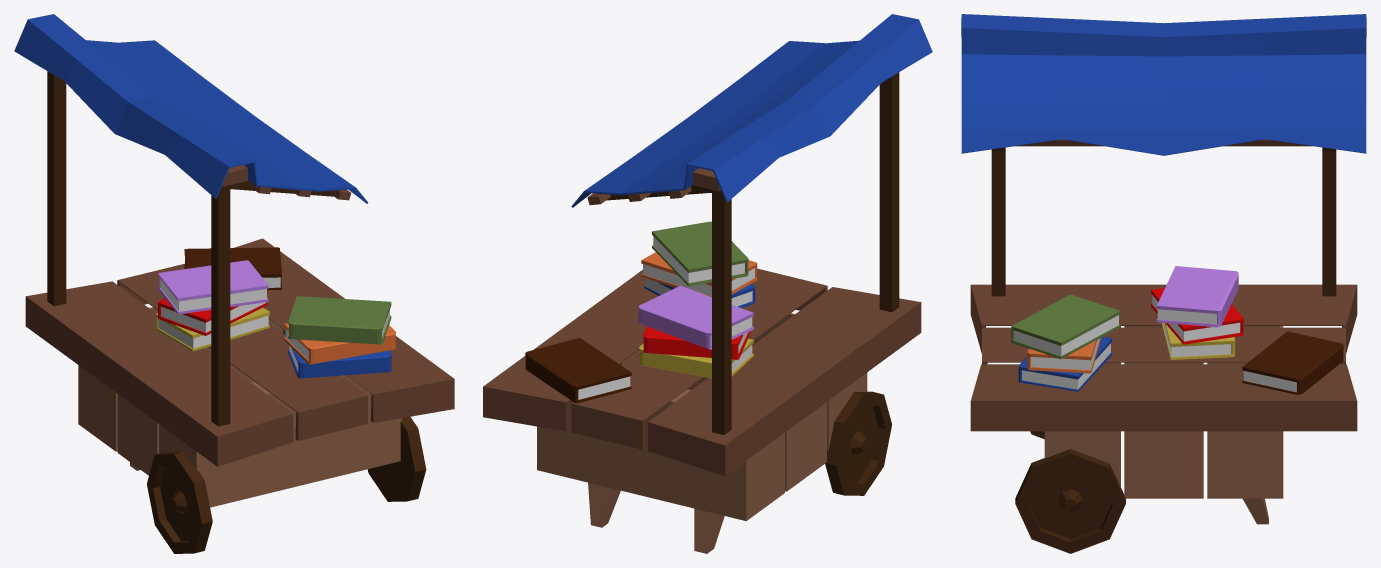
File: puestoLibros4.fbx
3 views of the same model, side by side, from view 1: azimuth 30°, elevation 25°; view 2: azimuth 150°, elevation 25°; view 3: azimuth 270°, elevation 25° (orthographic). The views are drawn at different scales.
Visible parts, largest first — view 1: Cube.9099, Plane.1801, Cube.9098, Cube.9100, Circle.231, Cube.9110, Cube.9116, Cube.9106, Cube.9118, Cube.9108, Cube.9113, Cube.9117 (+3 smaller); view 2: Cube.9099, Plane.1801, Cube.9098, Cube.9100, Circle.231, Cube.9118, Cube.9116, Cube.9110, Cube.9114, Cube.9112, Cube.9109, Cube.9111 (+2 smaller); view 3: Plane.1801, Cube.9099, Cube.9098, Circle.231, Cube.9100, Cube.9118, Cube.9116, Cube.9110, Cube.9111, Cube.9114, Cube.9107, Cube.9106 (+8 smaller).
Part boxes in pixels (bbox=[...]): Cube.9099: bbox=[25, 238, 454, 466]; Plane.1801: bbox=[14, 14, 368, 203]; Cube.9098: bbox=[78, 307, 401, 507]; Cube.9100: bbox=[47, 71, 230, 426]; Circle.231: bbox=[147, 416, 426, 553]; Cube.9110: bbox=[288, 296, 391, 344]; Cube.9116: bbox=[158, 260, 268, 314]; Cube.9106: bbox=[288, 348, 391, 378]; Cube.9118: bbox=[184, 247, 281, 289]; Cube.9108: bbox=[284, 323, 395, 364]; Cube.9113: bbox=[158, 315, 268, 348]; Cube.9117: bbox=[160, 279, 266, 311]; Cube.9099: bbox=[483, 268, 921, 475]; Plane.1801: bbox=[571, 14, 932, 207]; Cube.9098: bbox=[537, 313, 867, 553]; Cube.9100: bbox=[712, 72, 899, 434]; Circle.231: bbox=[825, 391, 891, 495]; Cube.9118: bbox=[525, 338, 631, 403]; Cube.9116: bbox=[638, 285, 753, 349]; Cube.9110: bbox=[652, 221, 748, 286]; Cube.9114: bbox=[643, 326, 750, 359]; Cube.9112: bbox=[639, 338, 753, 378]; Cube.9109: bbox=[643, 264, 754, 296]; Cube.9111: bbox=[653, 236, 744, 282]; Plane.1801: bbox=[961, 14, 1366, 155]; Cube.9099: bbox=[970, 284, 1357, 431]; Cube.9098: bbox=[1044, 326, 1283, 524]; Circle.231: bbox=[1015, 431, 1125, 553]; Cube.9100: bbox=[991, 151, 1336, 296]; Cube.9118: bbox=[1242, 331, 1343, 394]; Cube.9116: bbox=[1156, 266, 1238, 327]; Cube.9110: bbox=[1011, 294, 1120, 359]; Cube.9111: bbox=[1014, 315, 1118, 355]; Cube.9114: bbox=[1151, 288, 1243, 344]; Cube.9107: bbox=[1022, 343, 1110, 389]; Cube.9106: bbox=[1018, 337, 1112, 391].
Size of the model in its own units: 930 by 1556 by 1329.
